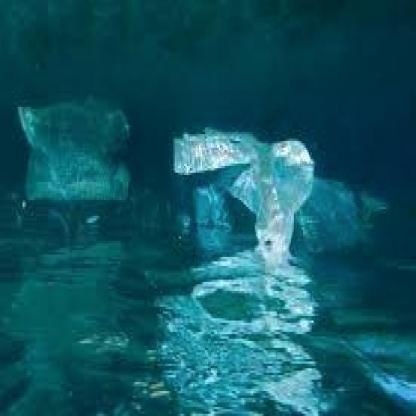pbag: (170, 125, 395, 261), (14, 96, 134, 204)
